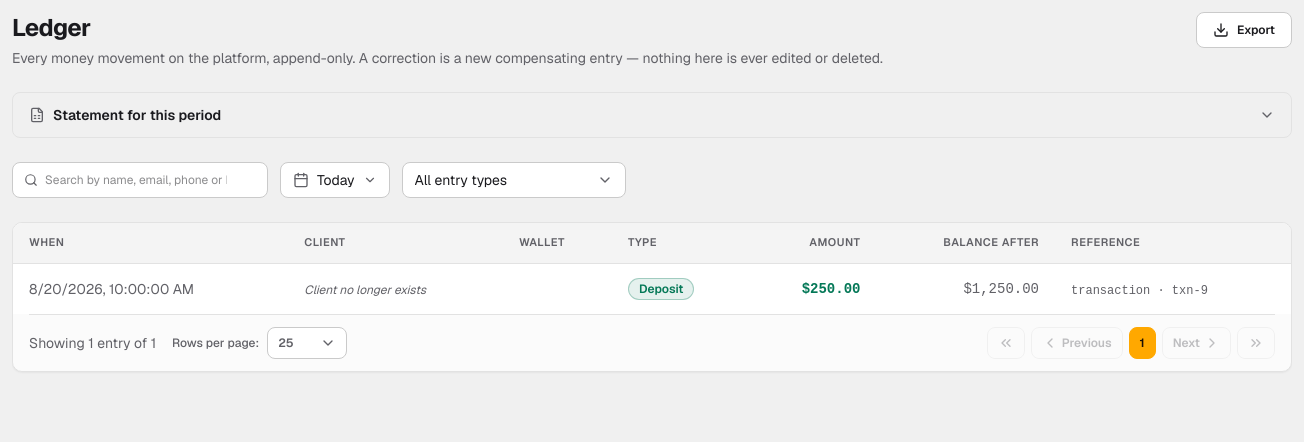
Test: filtering › offers every entry type the column can hold
Check: the text "$250.00" is shown, box [802,281,860,297]
Click the dropdown labelled "All entry types".
click(514, 180)  # box [402,162,626,198]
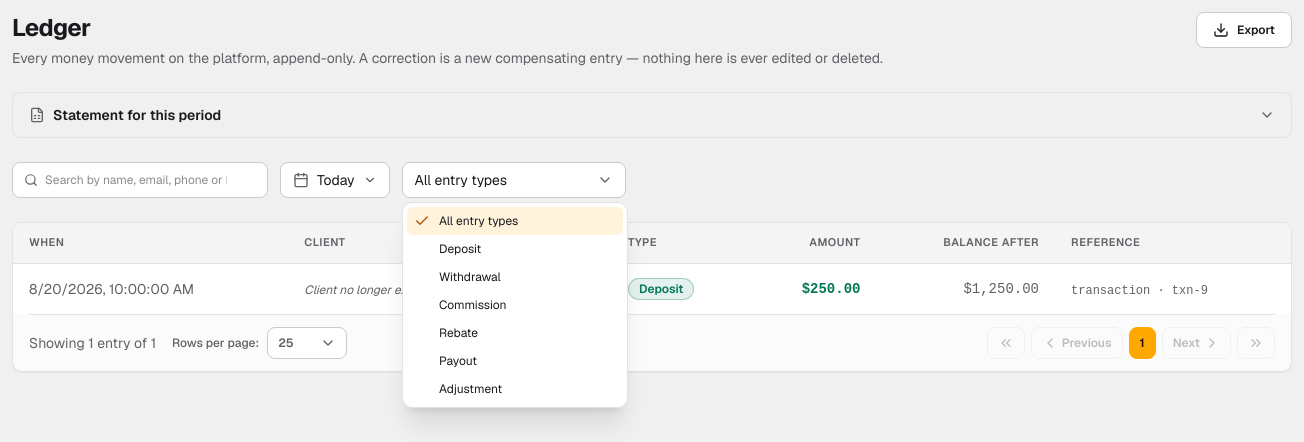
Check: the option "Deposit" is shown, box [439,241,481,257]
Check: the option "Withdrawal" is shown, box [439,269,501,285]
Check: the option "Commission" is shown, box [439,297,506,313]
